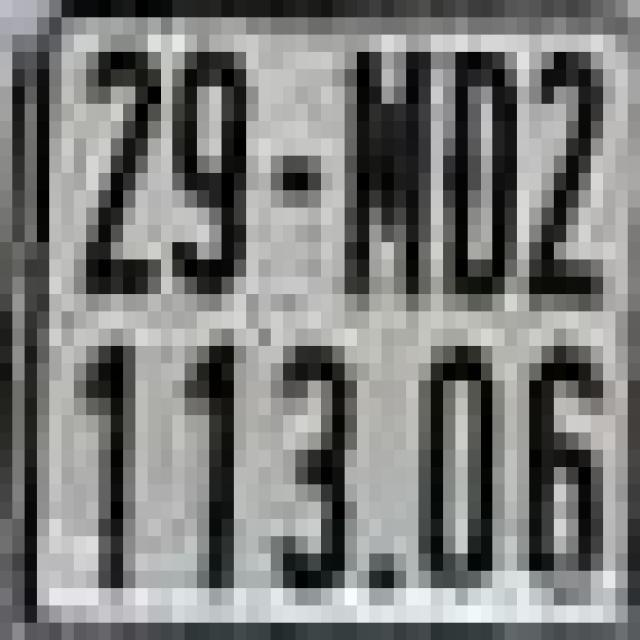0: (418, 346, 492, 588)
1: (86, 346, 136, 588), (184, 346, 233, 588)
2: (529, 52, 603, 294), (86, 52, 160, 294)
3: (270, 346, 344, 588)
6: (529, 346, 603, 588)
9: (172, 52, 246, 294)
D: (443, 52, 517, 294)
M: (344, 35, 430, 312)
